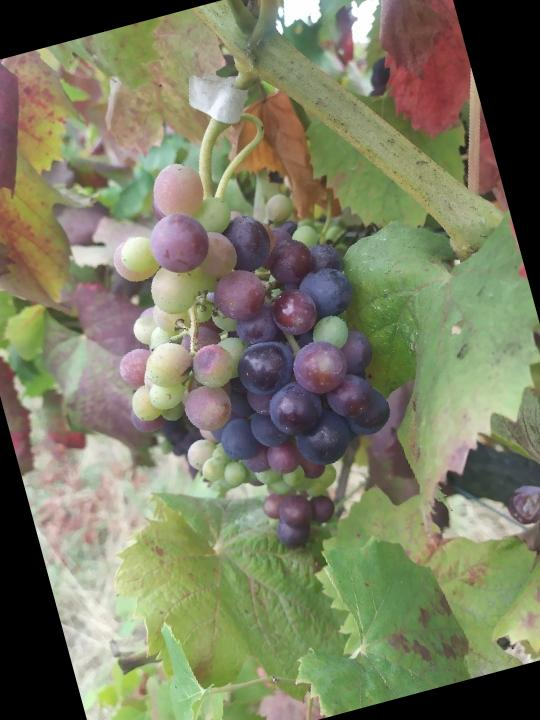grape: (66, 117, 428, 581)
